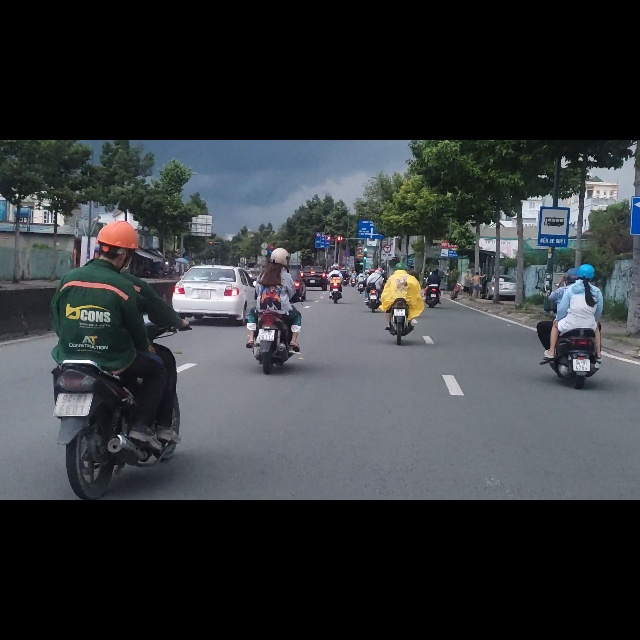bien_chi_dan: (539, 118, 567, 190), (315, 172, 330, 193), (384, 185, 391, 200), (268, 185, 274, 195)
